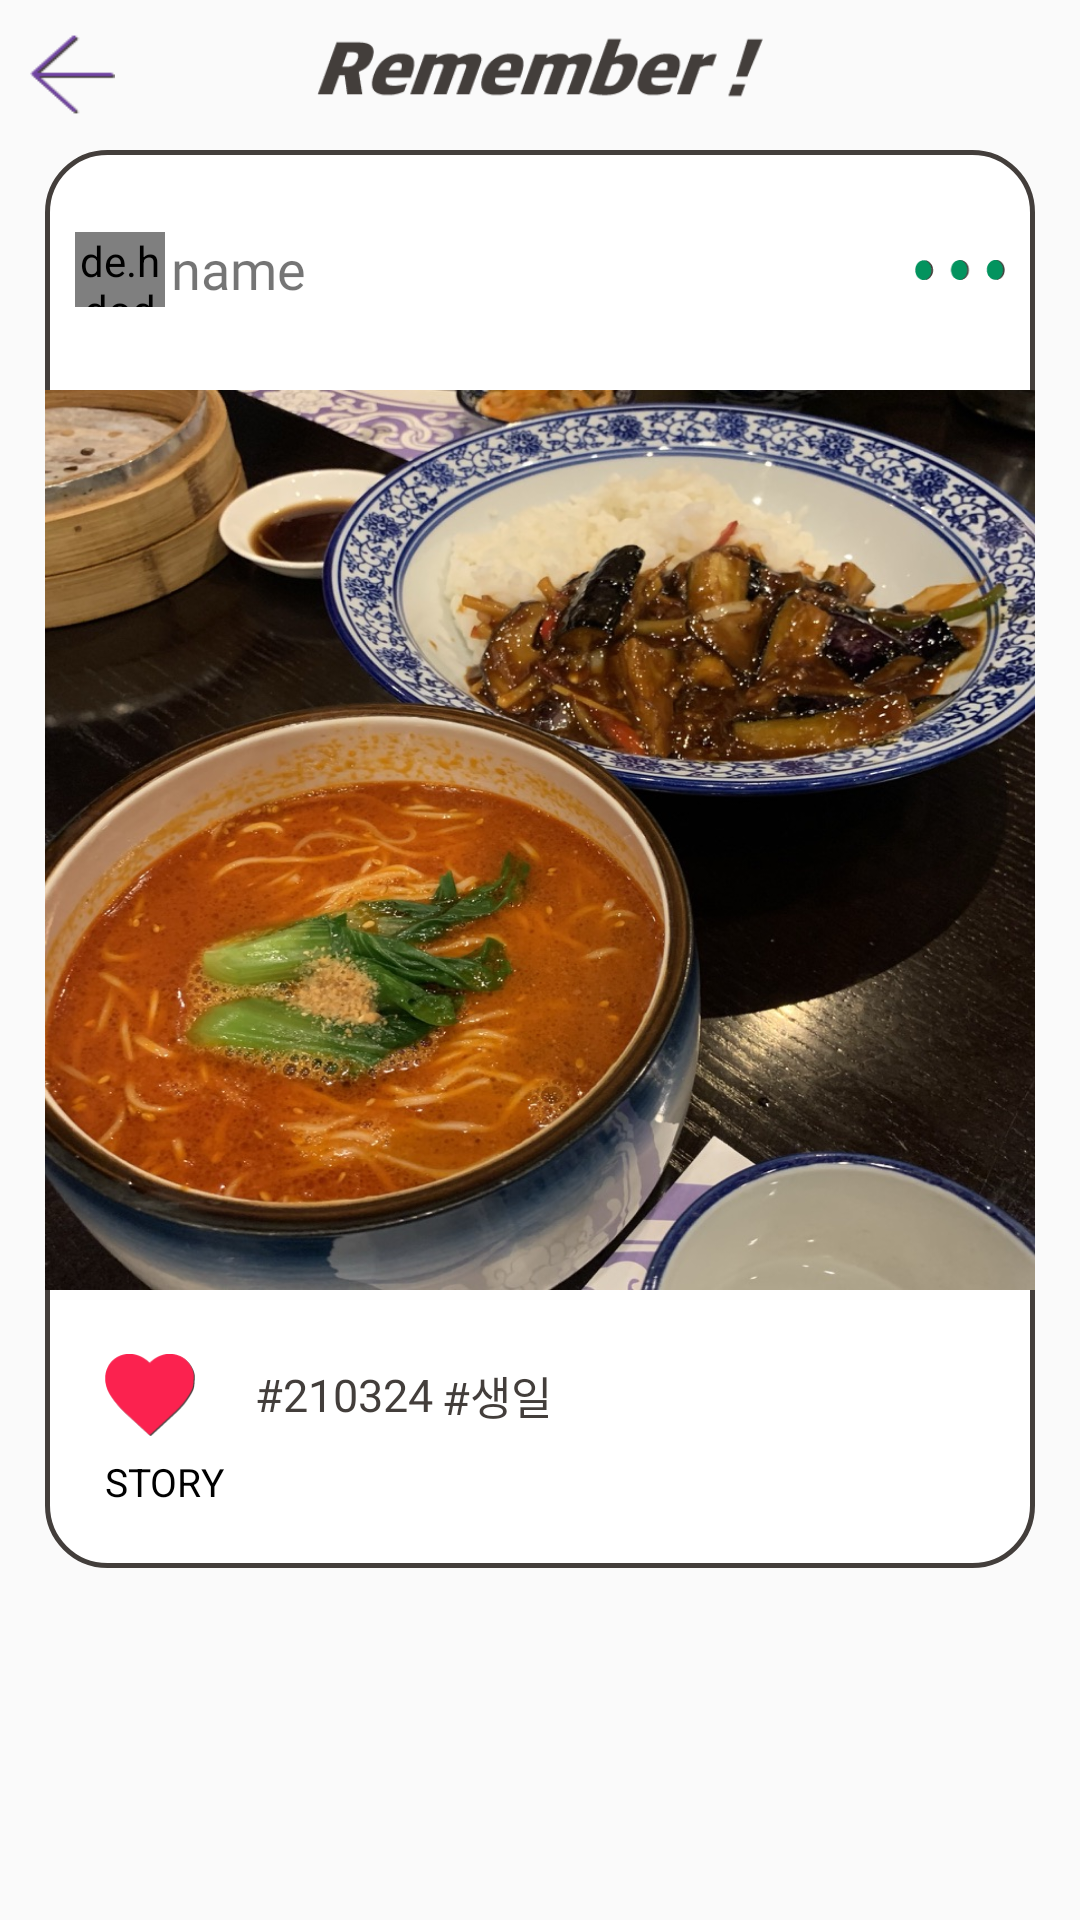

Icon click points for this 1080×1920 phone screenshot, format [x,y]:
heart full: [150,1395]
